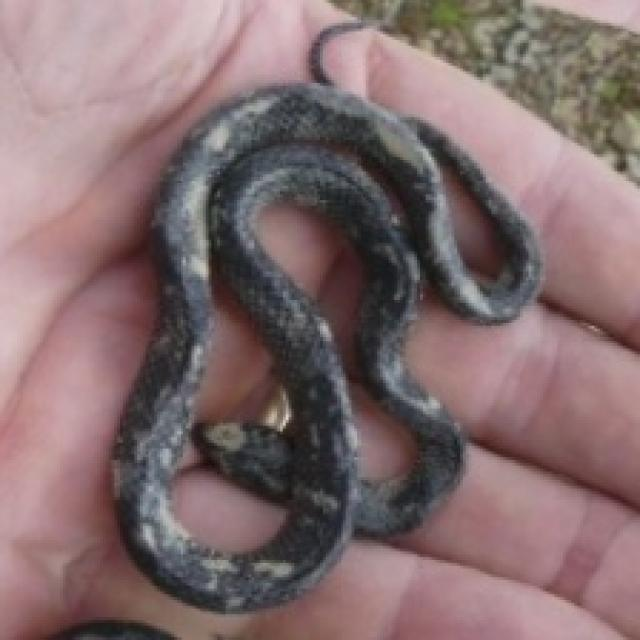gunthers philippine shrub snake: (114, 23, 540, 609), (254, 197, 417, 483), (169, 251, 291, 551)
